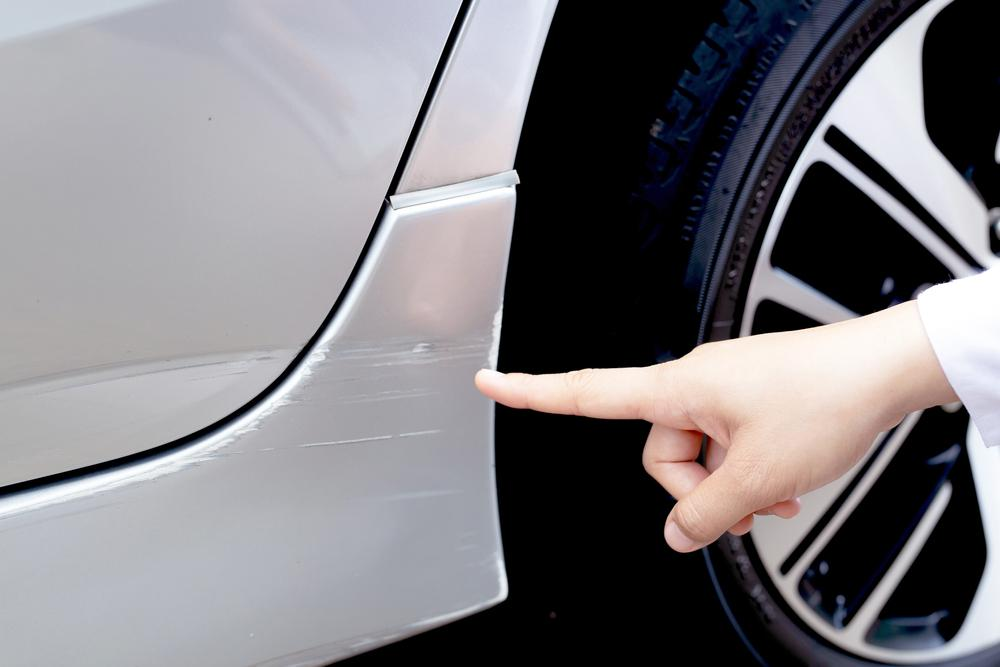scratch: (0, 322, 502, 524), (0, 342, 302, 401)
